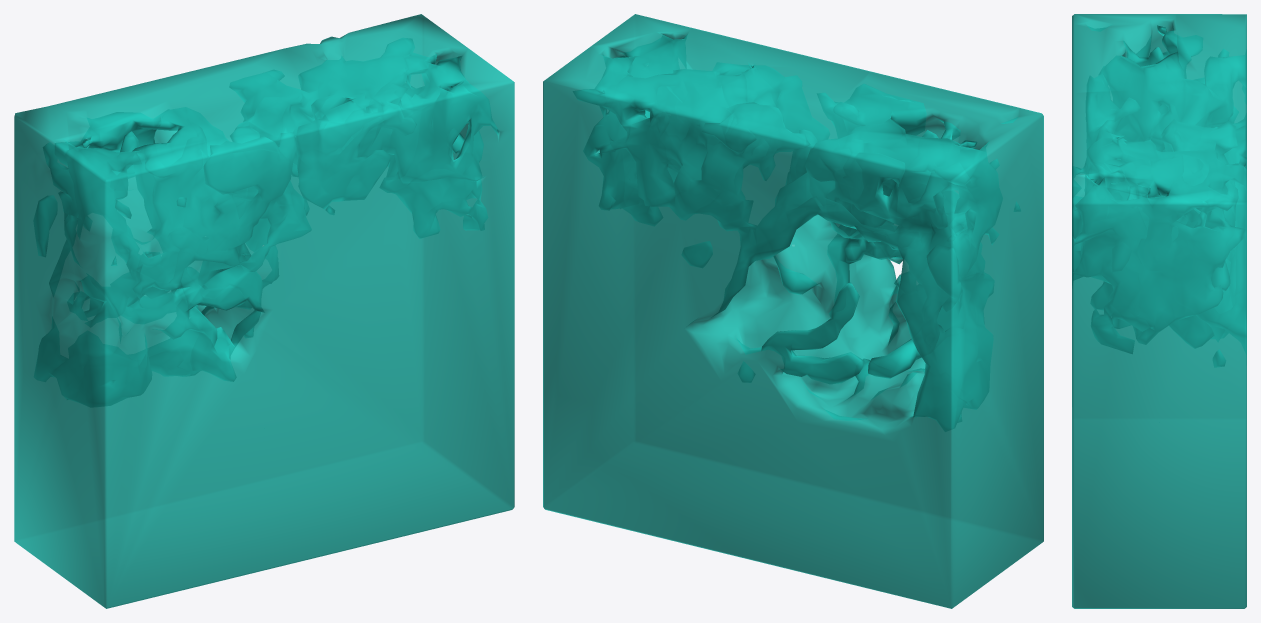
3 renders of one model, left to right at view 1: azimuth 30°, elevation 25°; view 2: azimuth 150°, elevation 25°; view 3: azimuth 270°, elevation 25°, orthographic. The views are drawn at different scales.
Visible parts, largest first — view 1: Liquid_Domain; view 2: Liquid_Domain; view 3: Liquid_Domain.
Part boxes in pixels (x1,y1,x2,y2): Liquid_Domain: [14, 14, 514, 608]; Liquid_Domain: [543, 14, 1043, 608]; Liquid_Domain: [1072, 14, 1246, 608].
Size of the model in its own units: 884 by 884 by 344.
